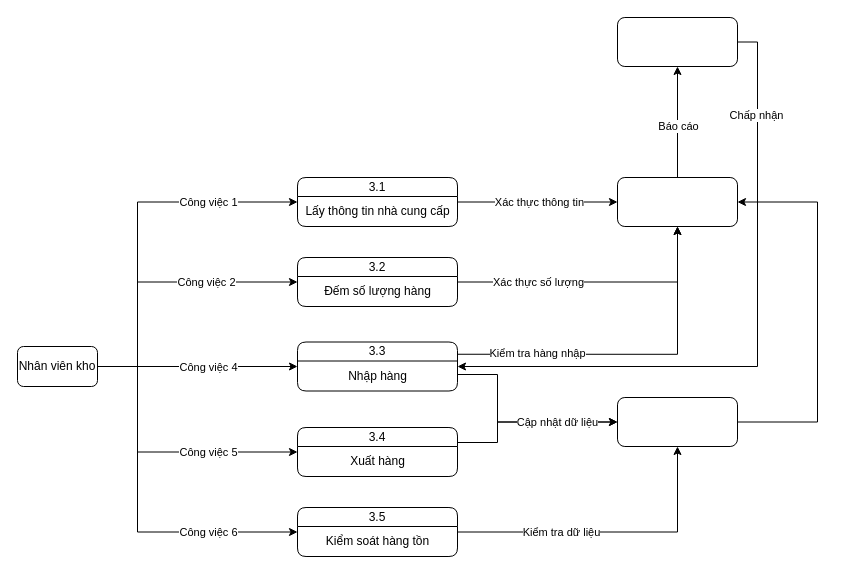
Some shapes in this 843 by 574 pixel diagram are drawn without their labels. The shapes that lost their labels are listed below. From the top down, each one's centre as x and y in pixels, then its label:
the point at 677,41: Thủ kho
the point at 677,201: Xác nhận
the point at 677,421: Hệ thống dữ liệu
